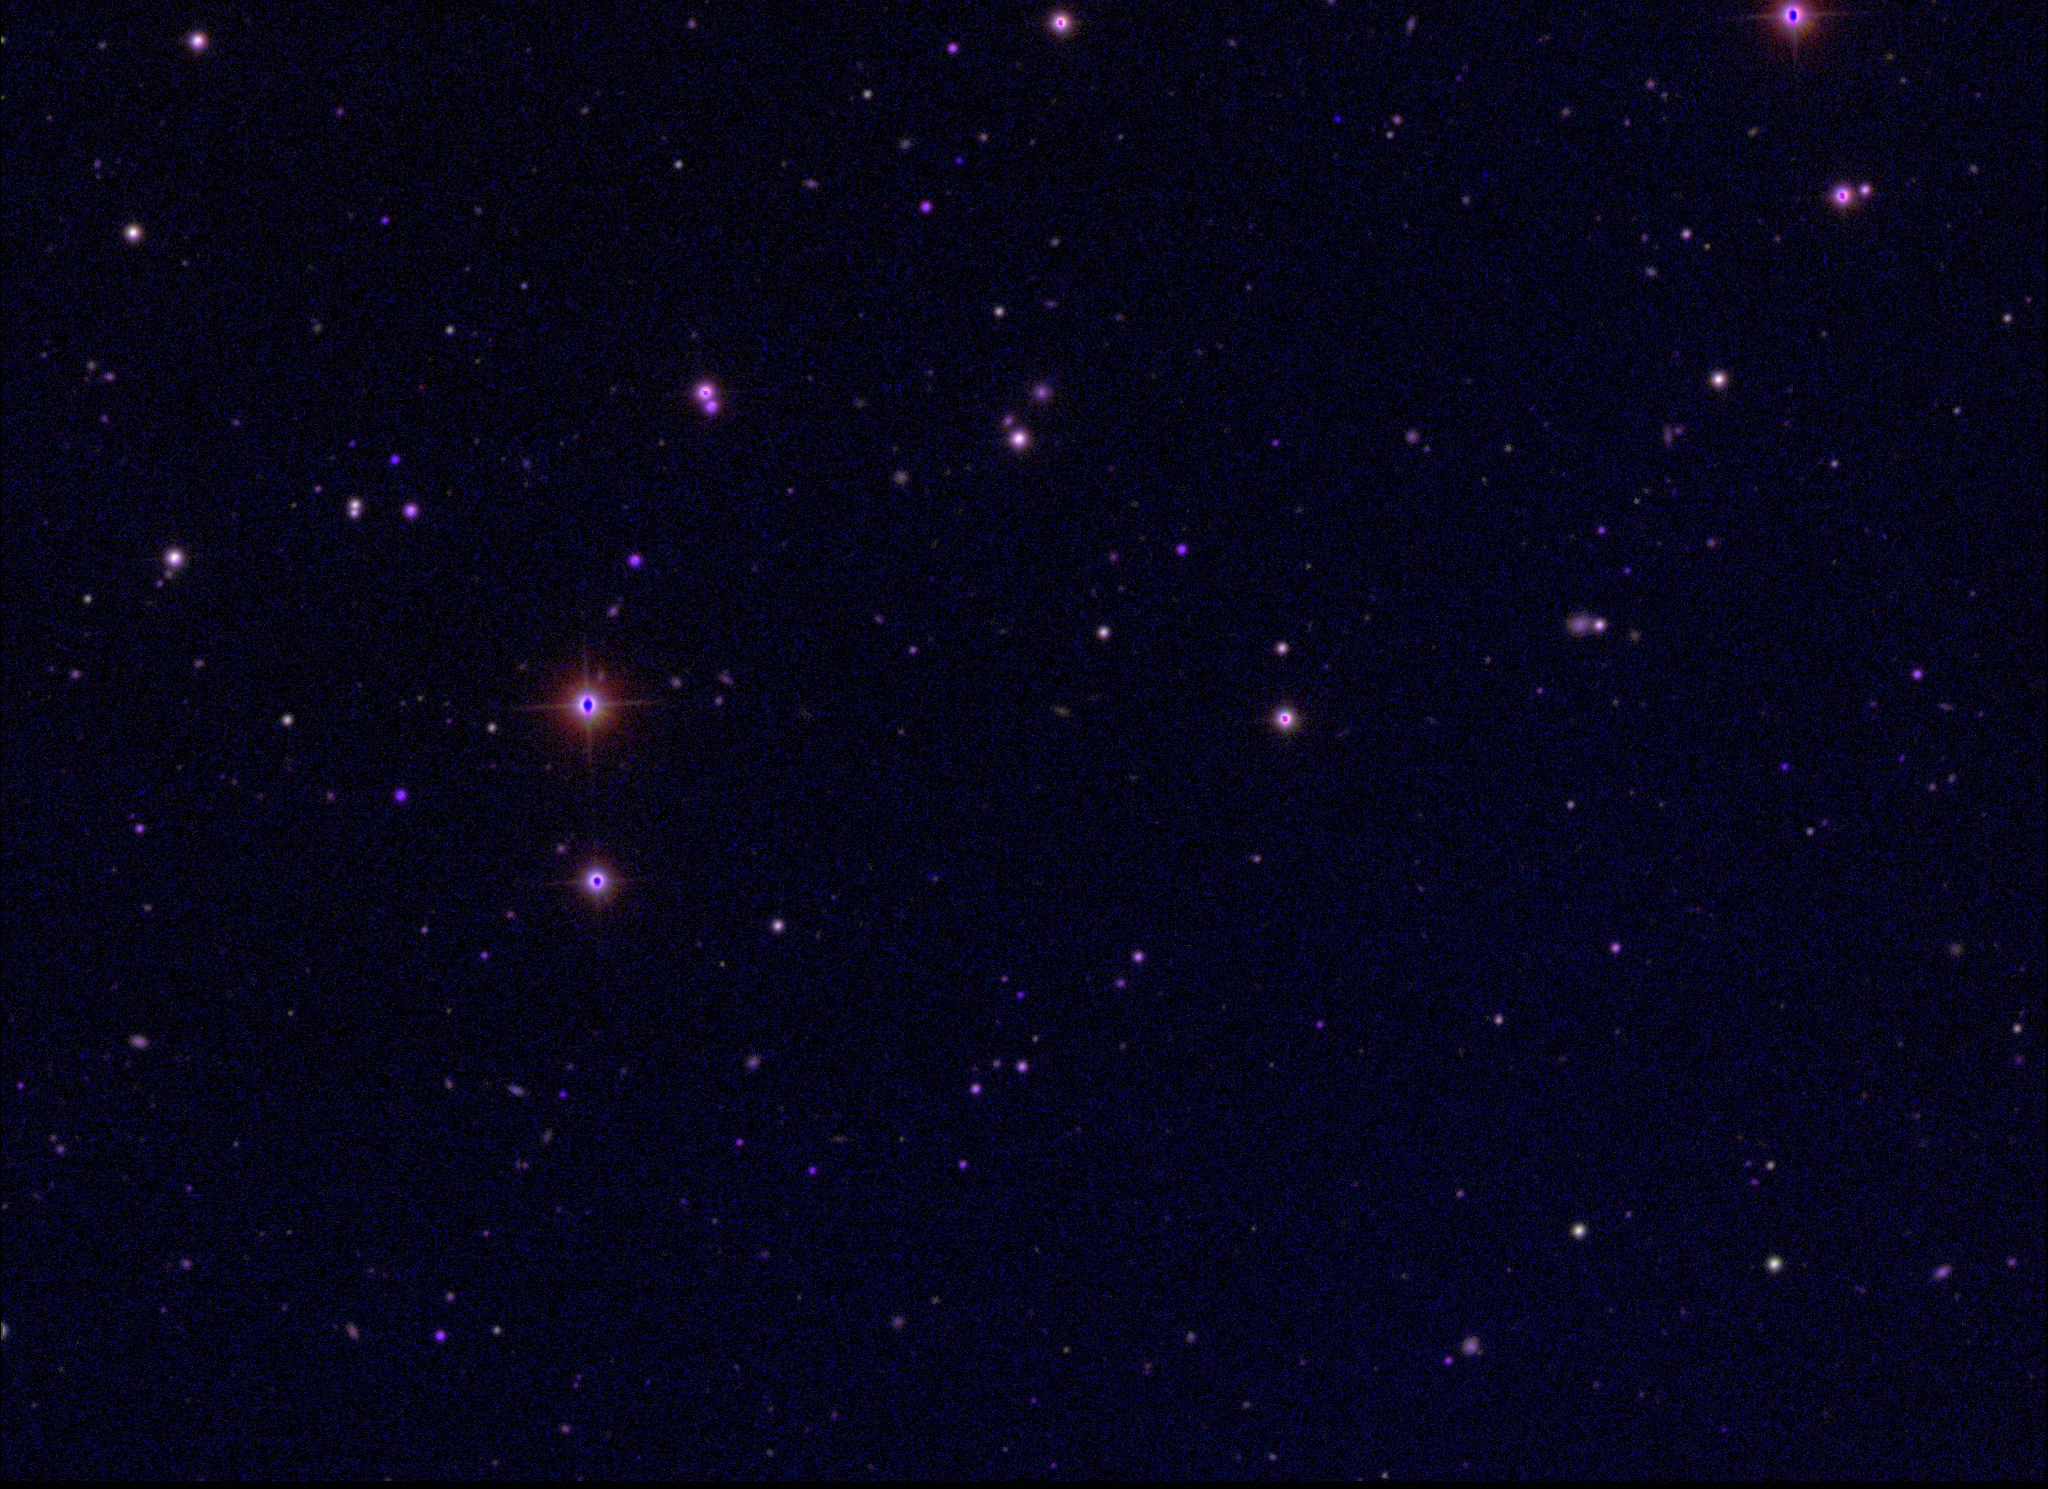L: (1331, 111, 1345, 126)
